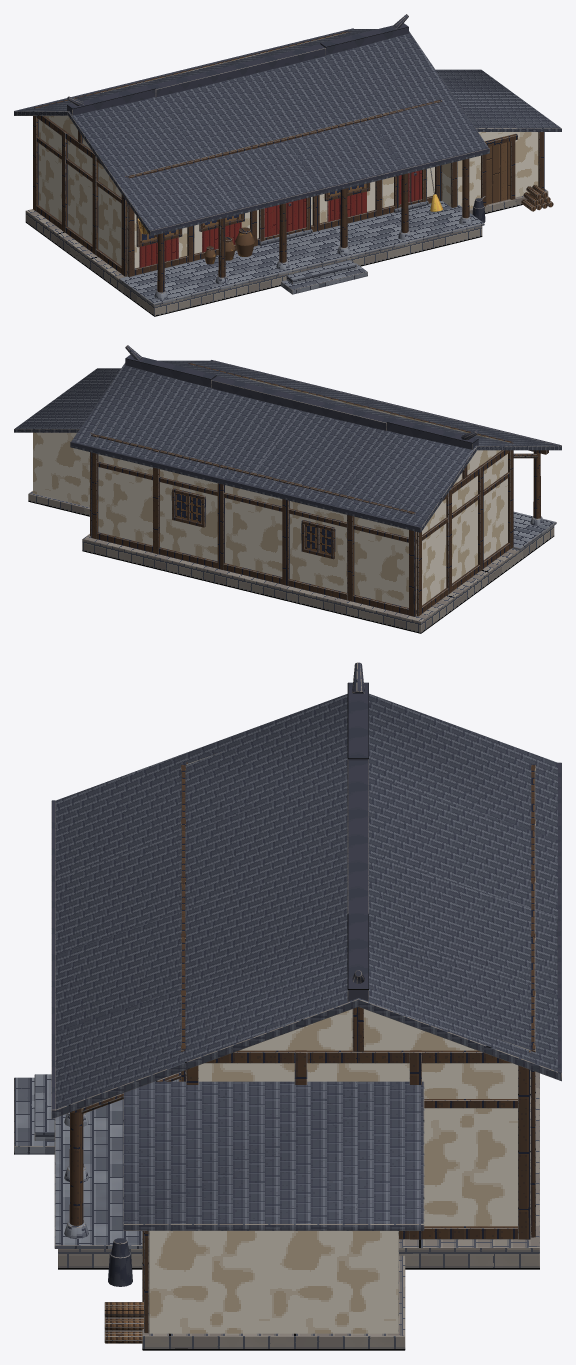
File: cn_timber_house_3.glb
The picture shows the model from 3 angles, top to bottom: view 1: azimuth 30°, elevation 25°; view 2: azimuth 150°, elevation 25°; view 3: azimuth 270°, elevation 25°; orthographic projection. The views are drawn at different scales.
Parts seen in each view (by area): view 1: cn_timber_house_4; view 2: cn_timber_house_4; view 3: cn_timber_house_4.
Boxes of the visible parts, bbox=[...] form: cn_timber_house_4: bbox=[14, 14, 561, 316]; cn_timber_house_4: bbox=[14, 345, 561, 633]; cn_timber_house_4: bbox=[14, 662, 561, 1350].
Bounding box in the file's own units: 14.88 × 5.35 × 8.75.
15 materials, 15 textured.
